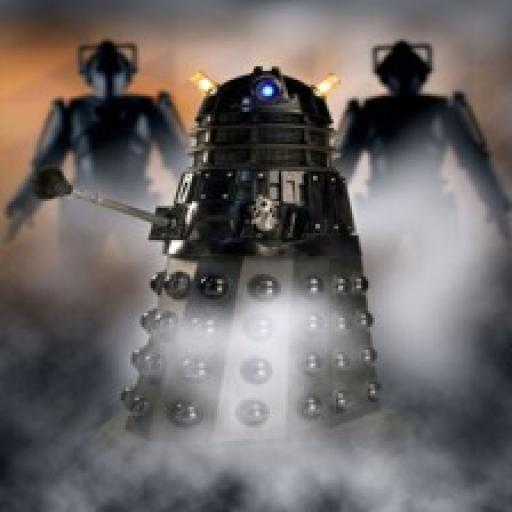dalek: (23, 61, 407, 481)
